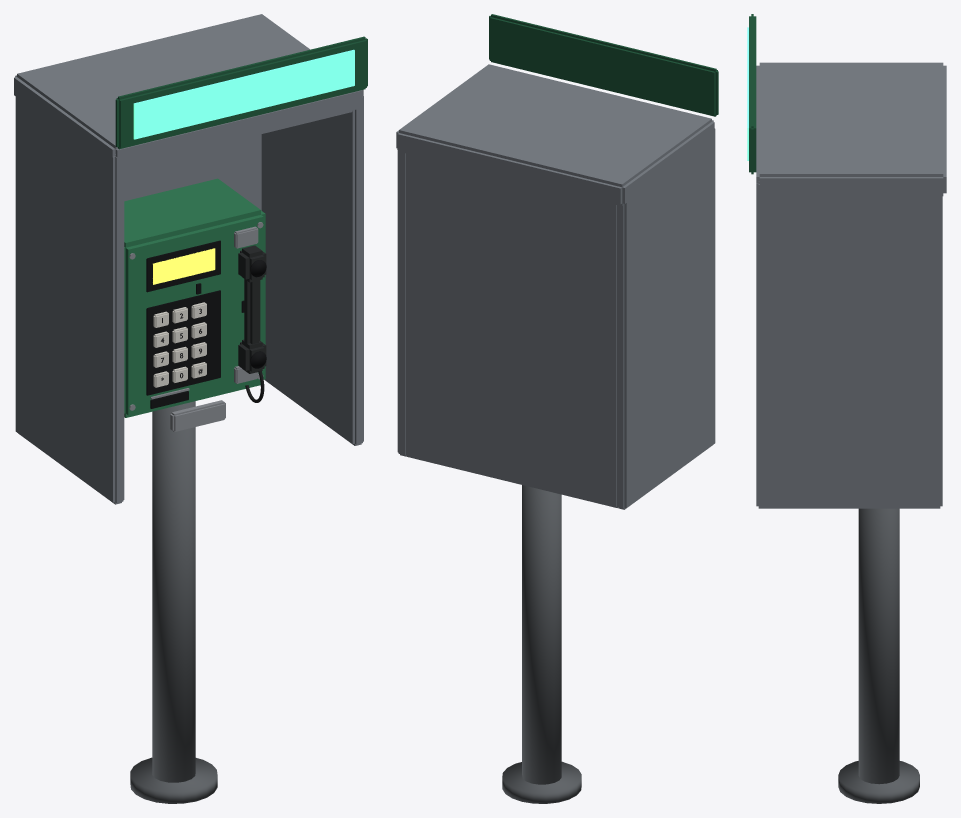
Rendered from payphone.glb.
The picture shows the model from 3 angles, left to right: view 1: azimuth 30°, elevation 25°; view 2: azimuth 150°, elevation 25°; view 3: azimuth 270°, elevation 25°; orthographic projection. The views are drawn at different scales.
Visible parts, largest first — view 1: body, handset, display, coin_return; view 2: body; view 3: body.
Boxes of the visible parts, <box> form: body: <box>14,14,367,803</box>; handset: <box>238,245,266,373</box>; display: <box>153,248,215,284</box>; coin_return: <box>170,400,225,431</box>; body: <box>396,14,718,803</box>; body: <box>747,14,946,803</box>.
Bounding box in the file's own units: 0.66 × 1.93 × 0.487.
